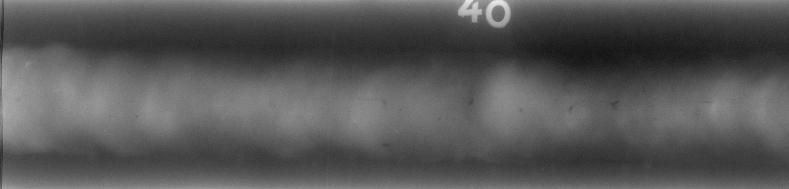FF: (112, 30, 620, 79), (12, 132, 346, 180), (584, 150, 789, 176), (550, 90, 628, 121), (434, 152, 502, 174), (514, 149, 566, 175), (458, 89, 480, 109), (380, 140, 392, 150)
FP: (296, 90, 392, 109), (664, 97, 782, 107)
PO: (435, 115, 445, 125), (399, 106, 406, 112)
